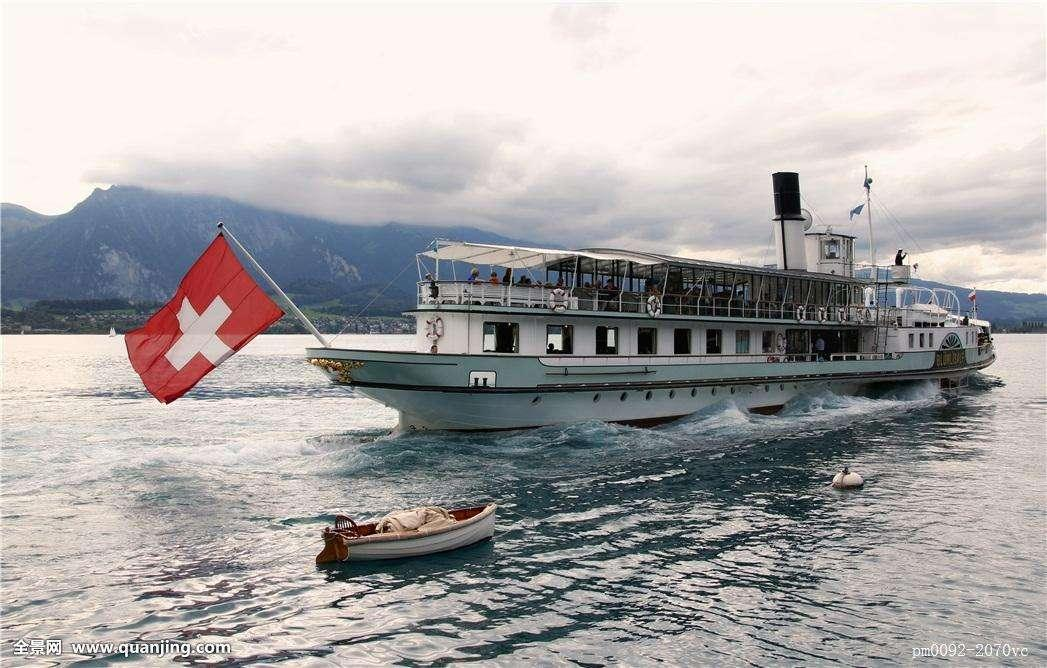otherboat: (301, 152, 999, 437), (309, 498, 506, 566)
